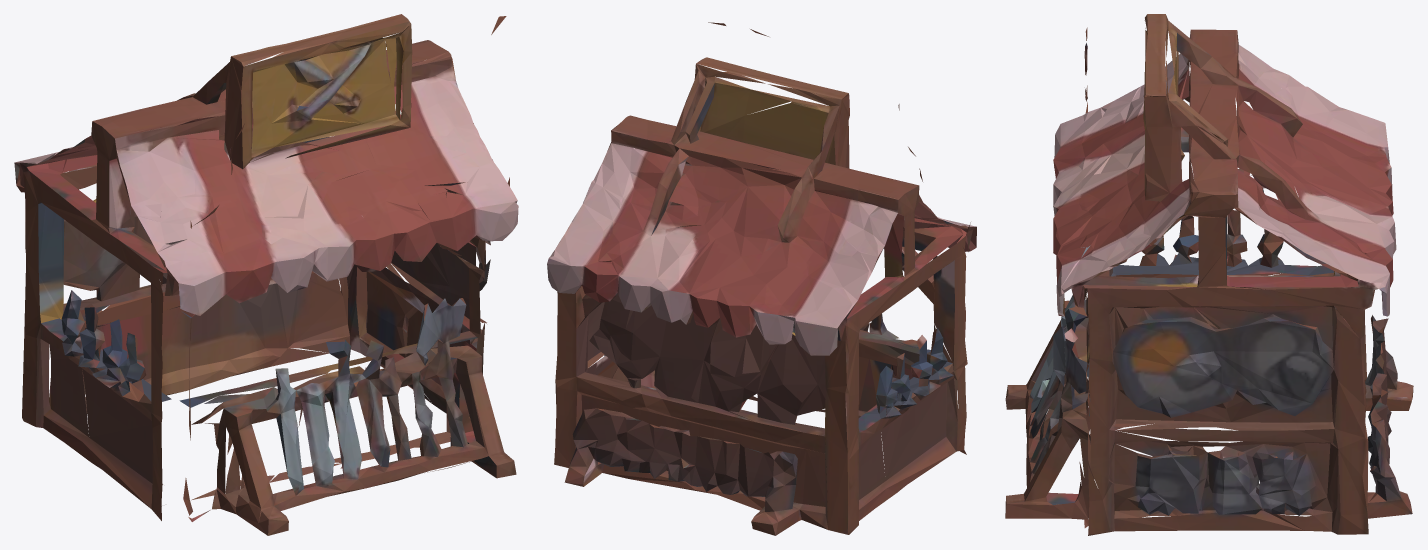
Rendered from shop_lihoy.glb.
The picture shows the model from 3 angles, left to right: view 1: azimuth 30°, elevation 25°; view 2: azimuth 150°, elevation 25°; view 3: azimuth 270°, elevation 25°; orthographic projection. The views are drawn at different scales.
Visible parts, largest first — view 1: geometry_0; view 2: geometry_0; view 3: geometry_0.
Boxes of the visible parts, x1,y1,x2,y2 form: geometry_0: (14,14,518,535); geometry_0: (547,22,976,535); geometry_0: (1005,14,1413,535).
Size of the model in its own units: 2 by 2.38 by 1.94.
1 material, 1 textured.
